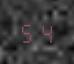five: (19, 19, 35, 43)
four: (36, 19, 52, 44)
